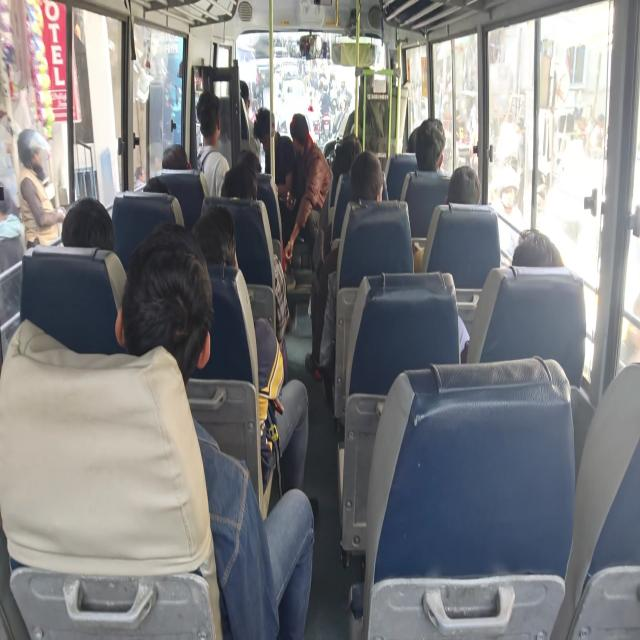person: (112, 223, 222, 374), (194, 202, 240, 288), (59, 194, 114, 263), (509, 218, 574, 272), (348, 150, 388, 206), (446, 159, 486, 215), (414, 114, 446, 177), (193, 82, 220, 156), (222, 162, 264, 206), (159, 136, 193, 180), (253, 105, 279, 157), (332, 130, 368, 167), (139, 170, 176, 205), (287, 105, 310, 160), (356, 62, 380, 103), (230, 77, 254, 111), (241, 148, 266, 180), (408, 125, 420, 152)
